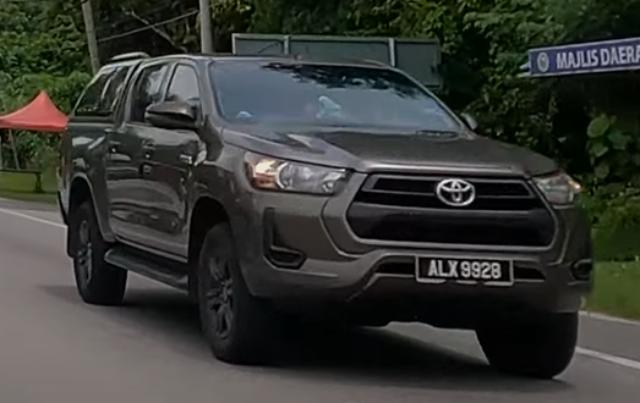License_Plate: (415, 255, 515, 288)
car: (57, 52, 596, 381)
